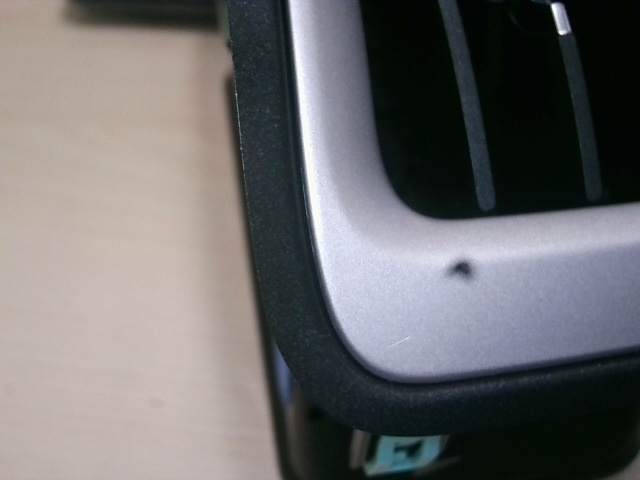NG: (382, 325, 416, 357)
